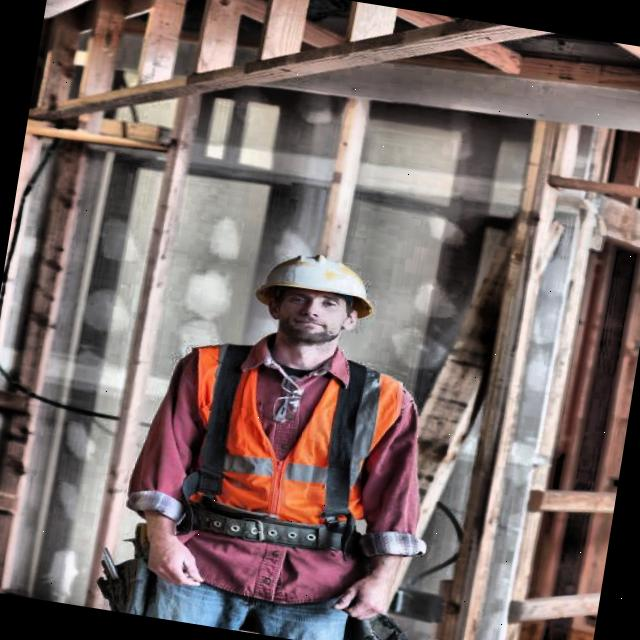helmet: (246, 247, 394, 362)
